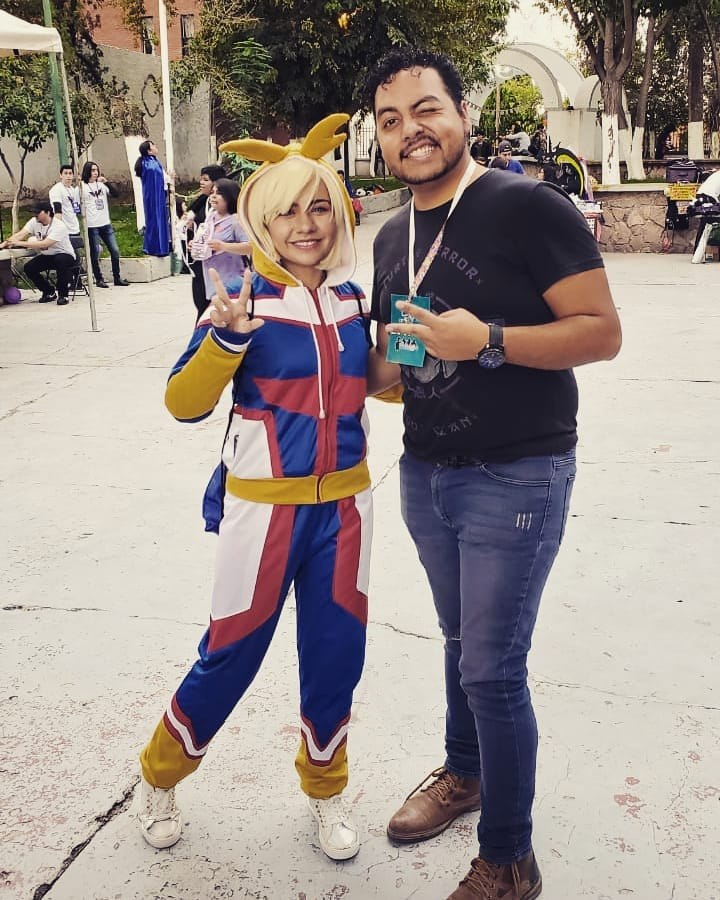Yoshi: (322, 56, 632, 559)
